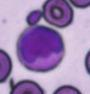M: (16, 26, 64, 72)
